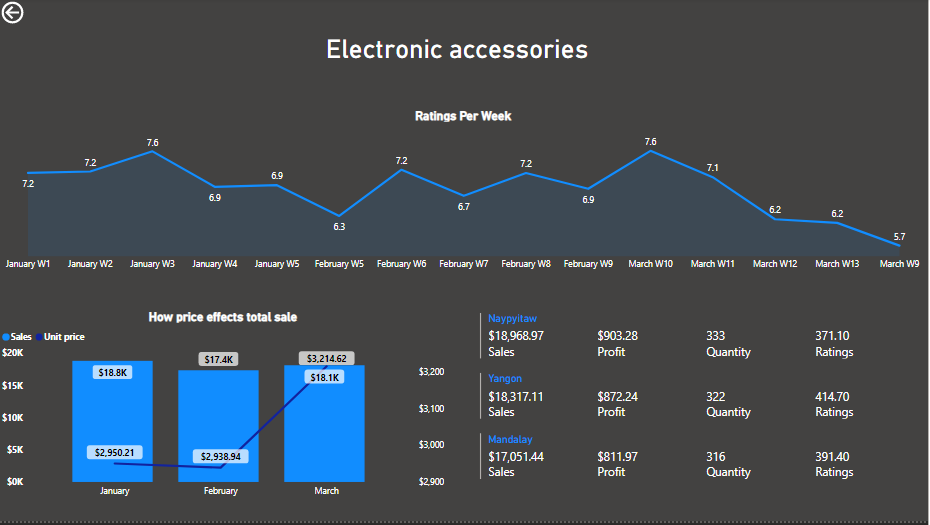

What the dashboard file says about the page in this screenshot:
{"tool":"powerbi","page":{"name":"Full details","canvas":[1280,720],"ordinal":1},"visuals":[{"type":"card","fields":{"Values":["Measure Table.Selected Product"]},"box":[399.6,7,465.1,118.9],"z":0},{"type":"actionButton","box":[0,0,42.8,40.2],"z":1000},{"type":"areaChart","title":"Ratings Per Week","fields":{"Category":["Dates.Week numnber"],"Y":["Measure Table.Average Ratings"]},"box":[0,151.9,1280.3,233],"z":2000},{"type":"lineStackedColumnComboChart","title":"How price effects total sale","fields":{"Category":["Dates.Month"],"Y":["Measure Table.Sales"],"Y2":["Sum(Super Market Sales.Unit price)"]},"box":[0,428.1,619.2,268.4],"z":3000},{"type":"multiRowCard","title":"How price effects total sale","fields":{"Values":["Measure Table.Sales","Measure Table.Profit","Measure Table.Quantity","Measure Table.Ratings","Super Market Sales.City"]},"box":[658.5,428.1,621.8,269.7],"z":4000}]}

Visuals, with their boxes in screenshot pixels (x1, y1, x2, y2), scaled from the page's 1280x720 canvas onto the 930x525 screenshot:
card - Measure Table.Selected Product: [290,5,628,92]
actionButton: [0,0,31,29]
"Ratings Per Week" areaChart: [0,111,929,281]
"How price effects total sale" lineStackedColumnComboChart: [0,312,450,508]
"How price effects total sale" multiRowCard: [478,312,929,509]
